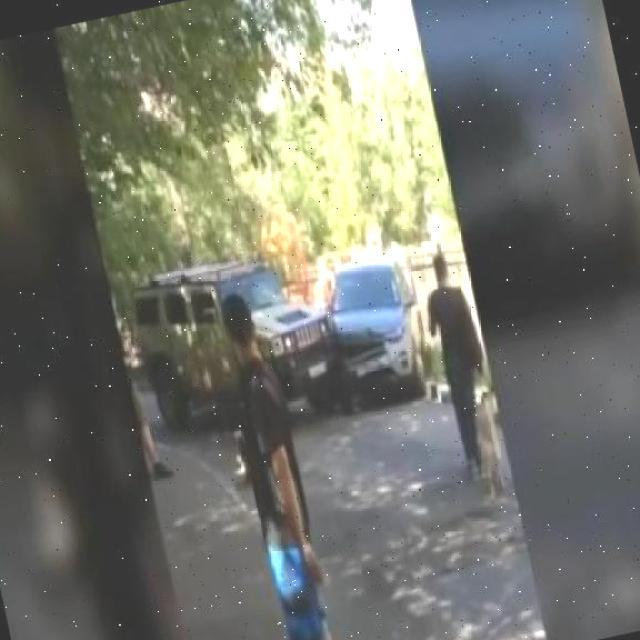accident: (119, 218, 433, 454)
